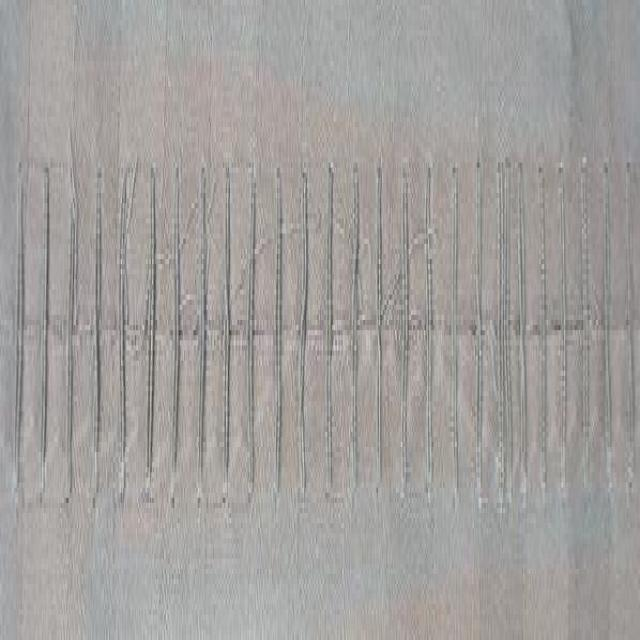gray stitch: (12, 157, 638, 508)
